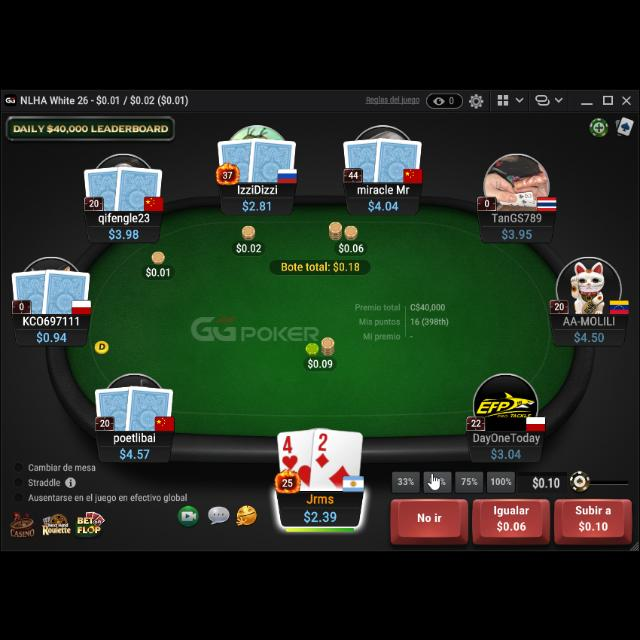2d: (316, 431, 332, 469)
4h: (281, 433, 299, 469)
bet_text: (306, 354, 336, 368), (234, 239, 262, 253), (338, 240, 364, 252)
card_back: (248, 134, 298, 184), (42, 265, 92, 315), (124, 381, 174, 431), (114, 162, 164, 212), (373, 134, 423, 182), (10, 266, 54, 314), (216, 136, 260, 184), (342, 134, 386, 182), (82, 163, 126, 211), (94, 382, 134, 430)
dealer: (92, 337, 110, 355)
hero_active: (390, 493, 634, 545)
pot_text: (279, 258, 357, 272)
stack_text: (302, 505, 338, 523), (106, 224, 140, 240), (500, 224, 534, 240), (34, 328, 68, 342), (572, 328, 606, 342), (240, 197, 274, 211), (366, 197, 399, 211), (118, 445, 150, 459), (490, 444, 522, 458)
